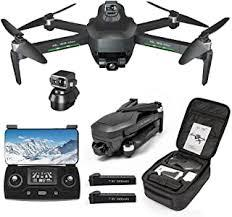drone: (0, 0, 232, 90)
